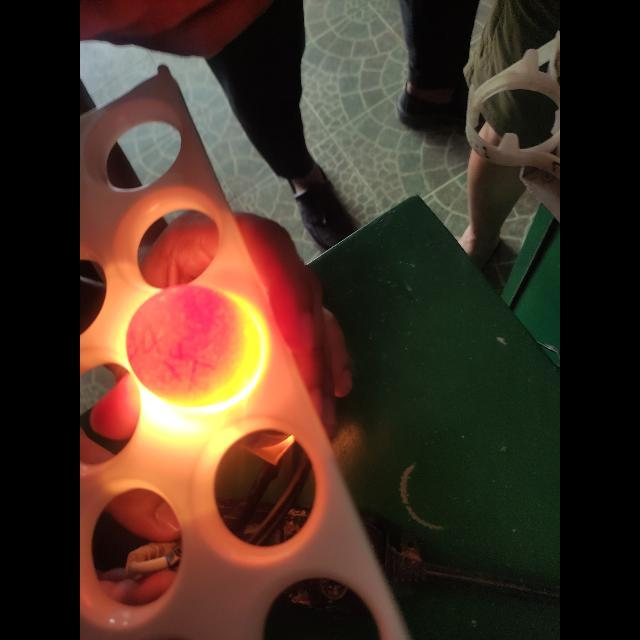Infertile: (128, 288, 258, 404)
